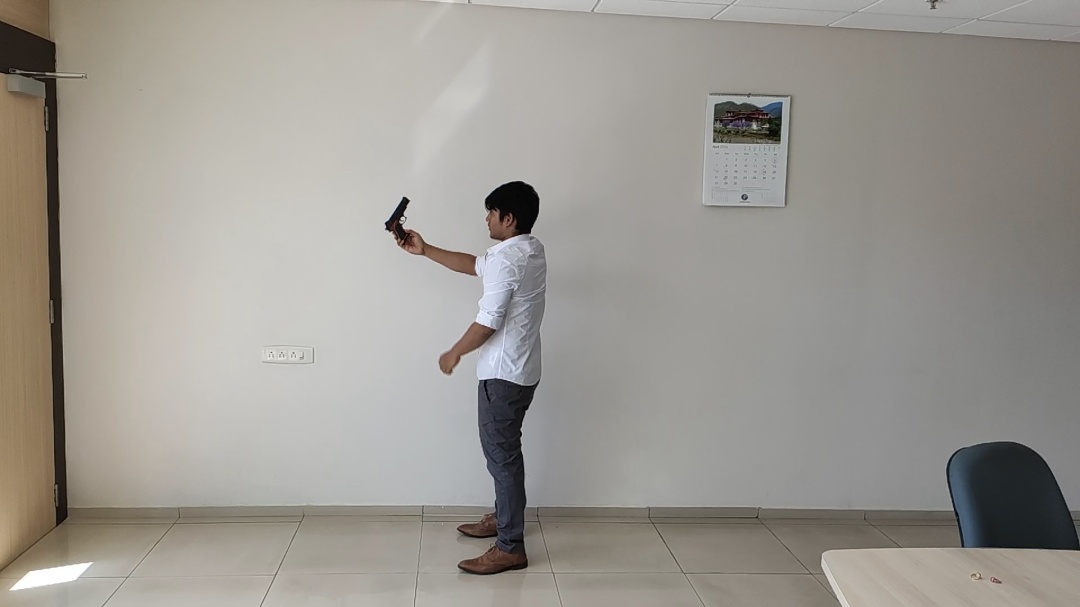gun: (314, 297, 779, 497)
